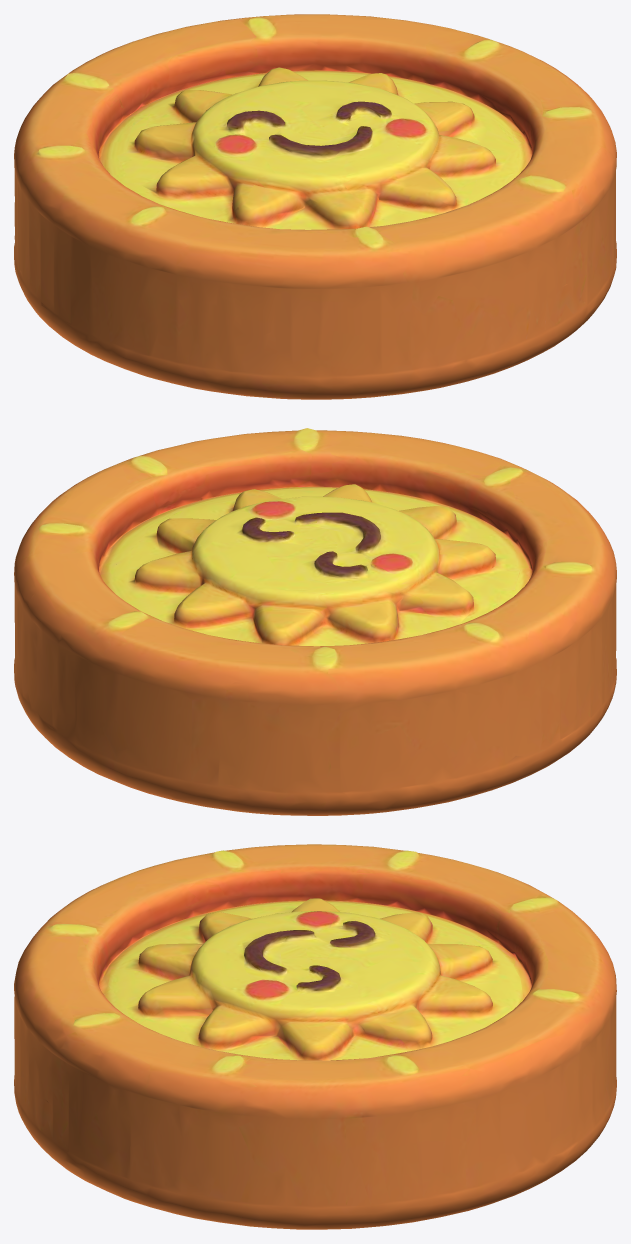
File: puck-sun.glb
The picture shows the model from 3 angles, top to bottom: view 1: azimuth 30°, elevation 25°; view 2: azimuth 150°, elevation 25°; view 3: azimuth 270°, elevation 25°; orthographic projection.
Visible parts, largest first — view 1: tripo_node_6cdb45ee-d9ad-4292-8c52-1fdce842d929; view 2: tripo_node_6cdb45ee-d9ad-4292-8c52-1fdce842d929; view 3: tripo_node_6cdb45ee-d9ad-4292-8c52-1fdce842d929.
Part boxes in pixels (<box>): tripo_node_6cdb45ee-d9ad-4292-8c52-1fdce842d929: <box>14,14,616,399</box>; tripo_node_6cdb45ee-d9ad-4292-8c52-1fdce842d929: <box>14,428,616,815</box>; tripo_node_6cdb45ee-d9ad-4292-8c52-1fdce842d929: <box>14,844,616,1229</box>.
Bounding box in the file's own units: 0.9998 × 0.2905 × 1.
Materials: 1 (1 with a texture image).
